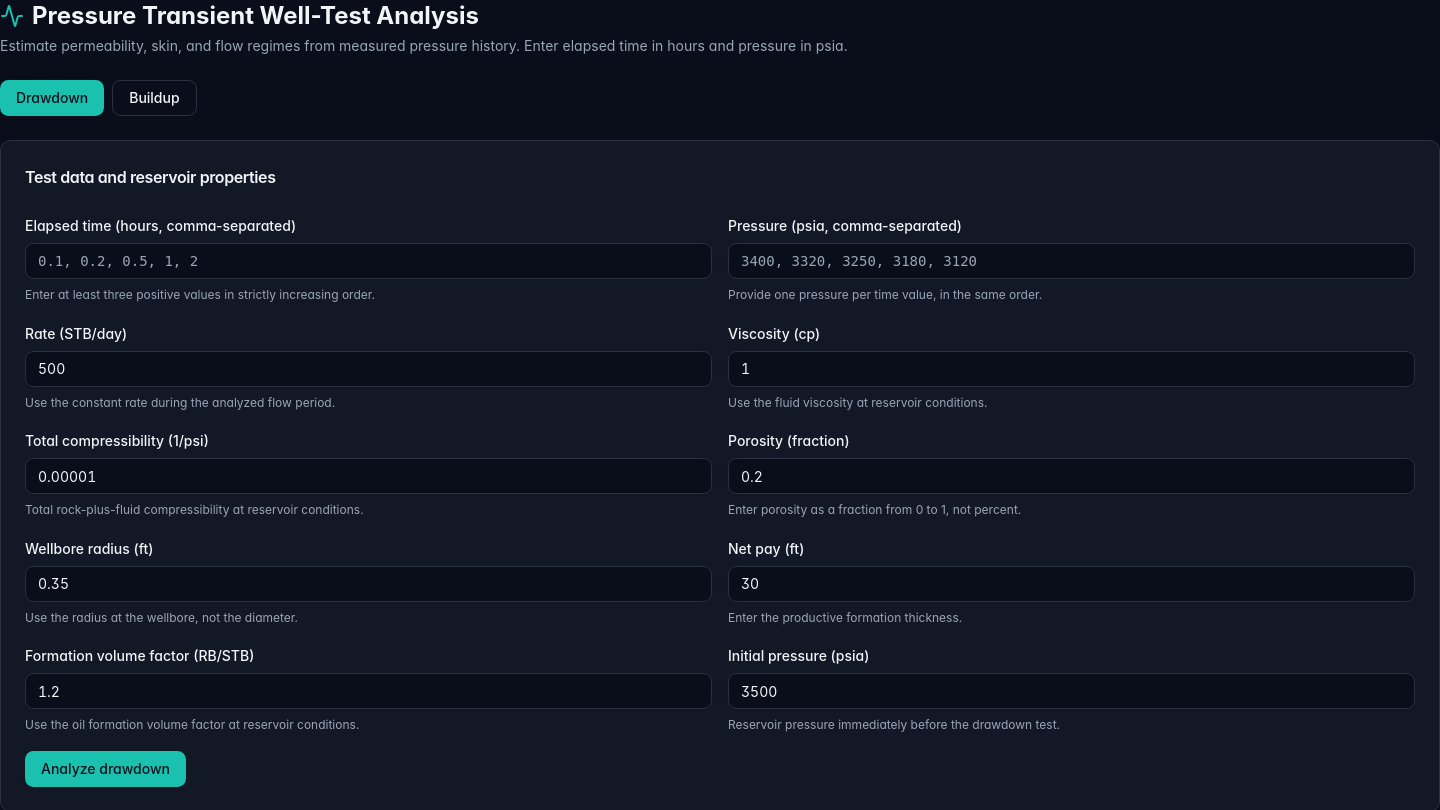
WellTestAnalysisView › rejects mismatched time and pressure arrays before making a request
Type "0.1, 0.2, 0.5" into the field labelled "Elapsed time (hours, comma-separated)".
click(368, 261); type("0.1, 0.2, 0.5")  # box [25,243,712,279]
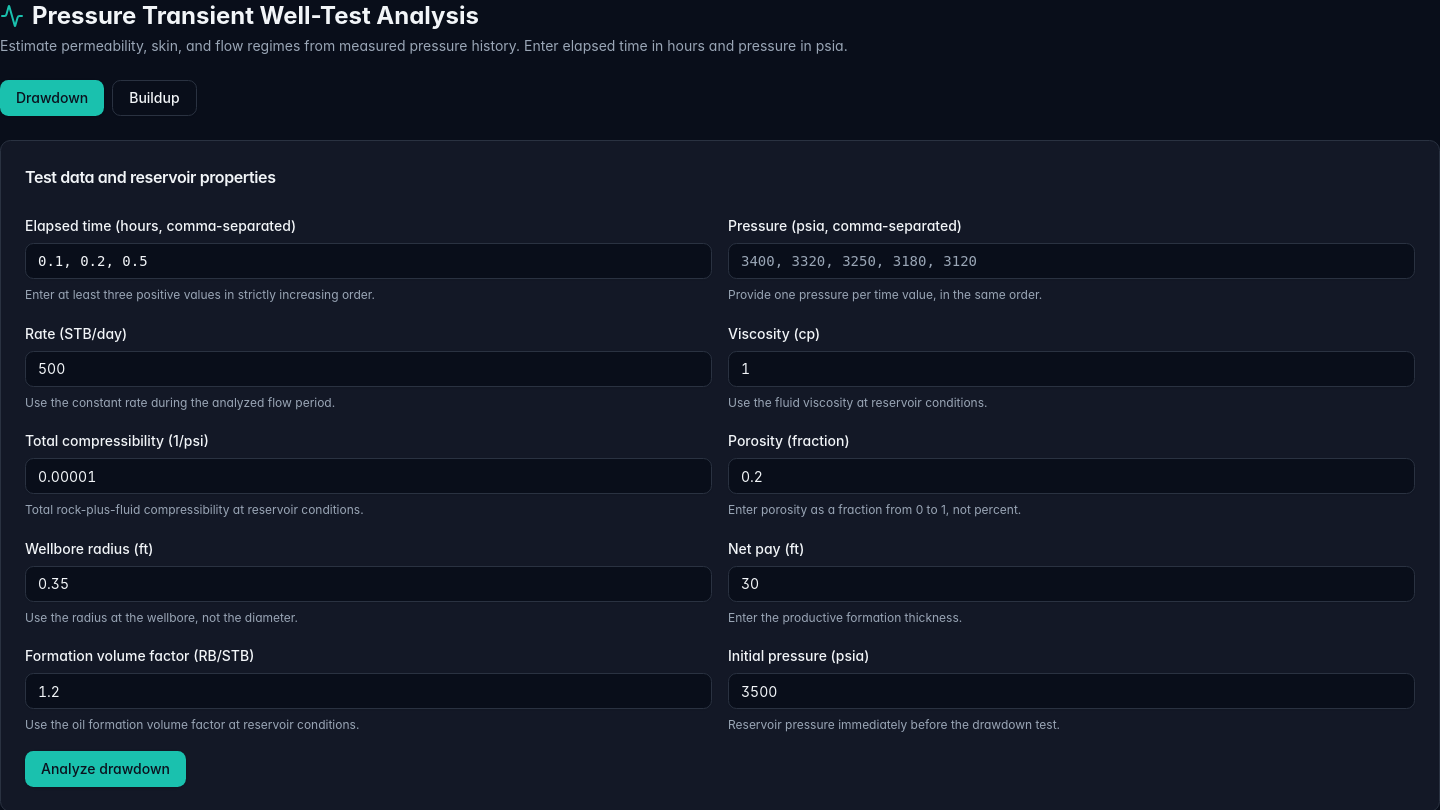
Type "3400, 3320, 3250, 3200" into the field labelled "Pressure (psia, comma-separated)".
click(1072, 261); type("3400, 3320, 3250, 3200")  # box [728,243,1415,279]
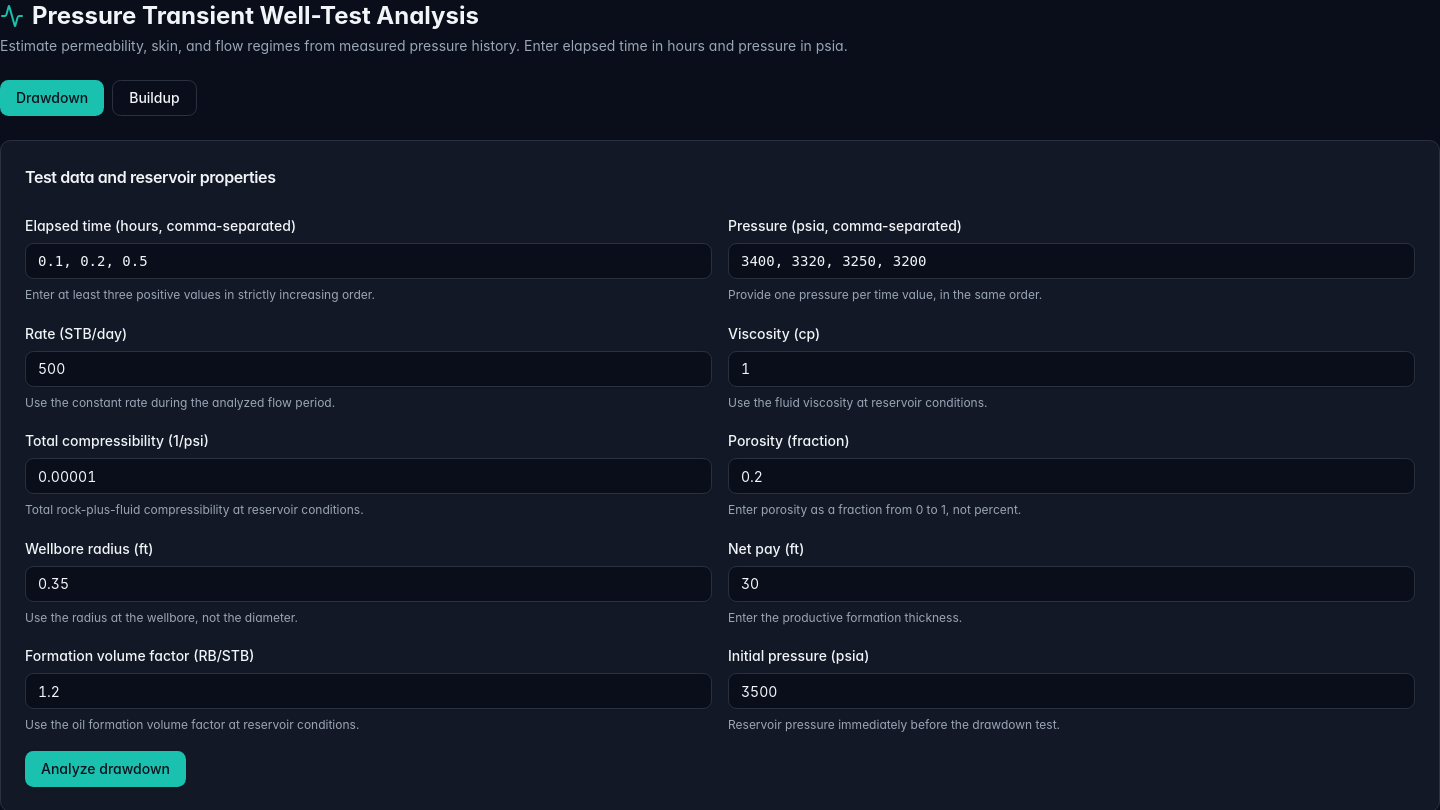
Click the button "Analyze drawdown".
click(106, 768)  # box [25,750,186,786]
(page scrolled)
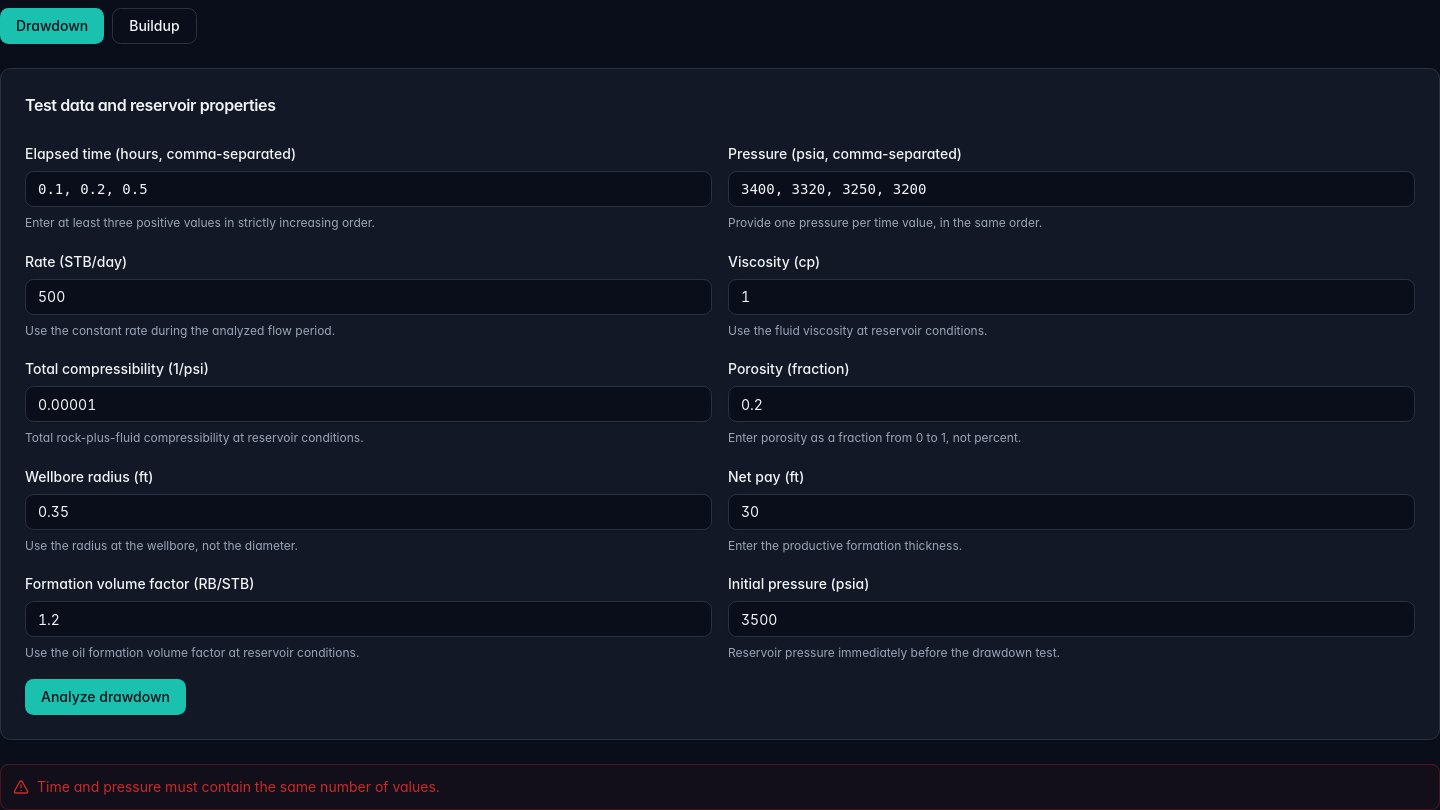
Expected: the message reads "Time and pressure must contain the same number of values.", [37,778,440,794]
